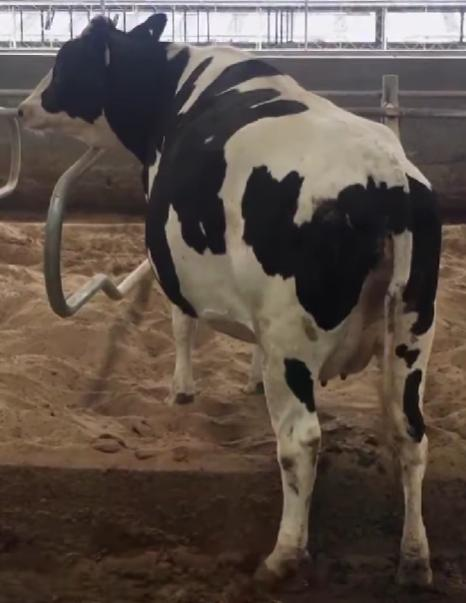cow: (21, 15, 441, 587)
